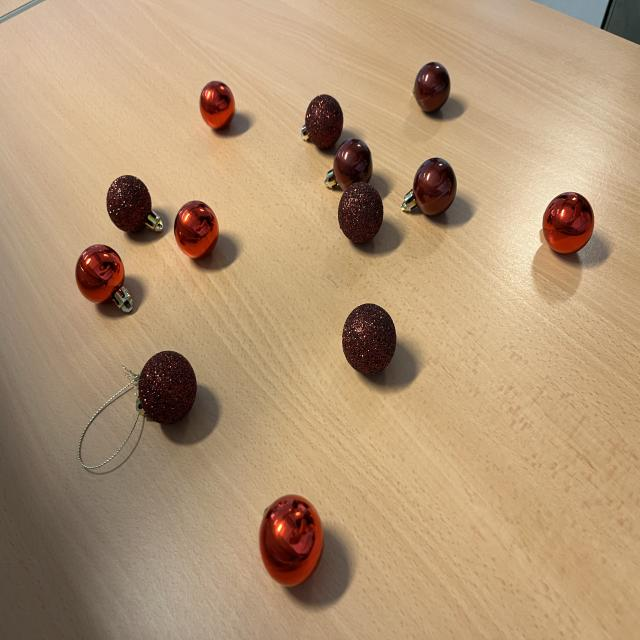glitter-bauble: (132, 350, 204, 428), (336, 302, 399, 381), (135, 351, 197, 425), (104, 172, 166, 240), (342, 303, 397, 376), (106, 175, 164, 233), (337, 182, 384, 247), (338, 182, 383, 245), (300, 92, 346, 152), (301, 95, 344, 150)
glossy-bauble: (252, 491, 328, 590), (259, 494, 324, 587), (72, 241, 138, 317), (538, 189, 596, 259), (75, 244, 133, 313), (170, 198, 221, 264), (542, 192, 594, 255), (174, 201, 219, 260), (197, 79, 239, 133), (199, 81, 236, 130)
wine-red-bauble: (396, 153, 459, 221), (401, 157, 457, 217), (324, 137, 382, 192), (406, 59, 454, 116), (324, 139, 373, 191), (412, 62, 451, 114)
